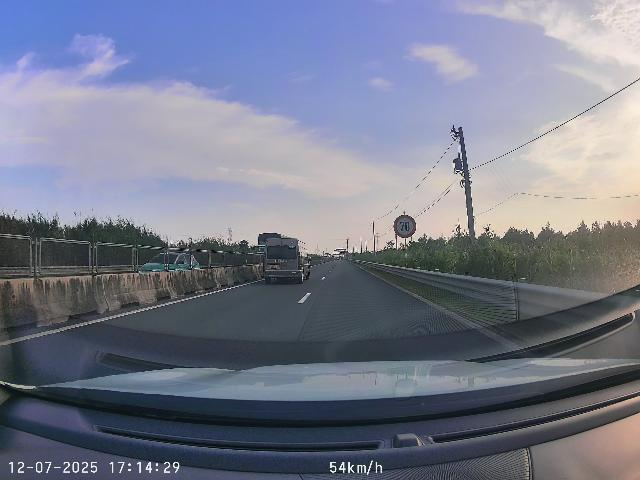127-toc-do-toi-da-70: (393, 214, 417, 238)
